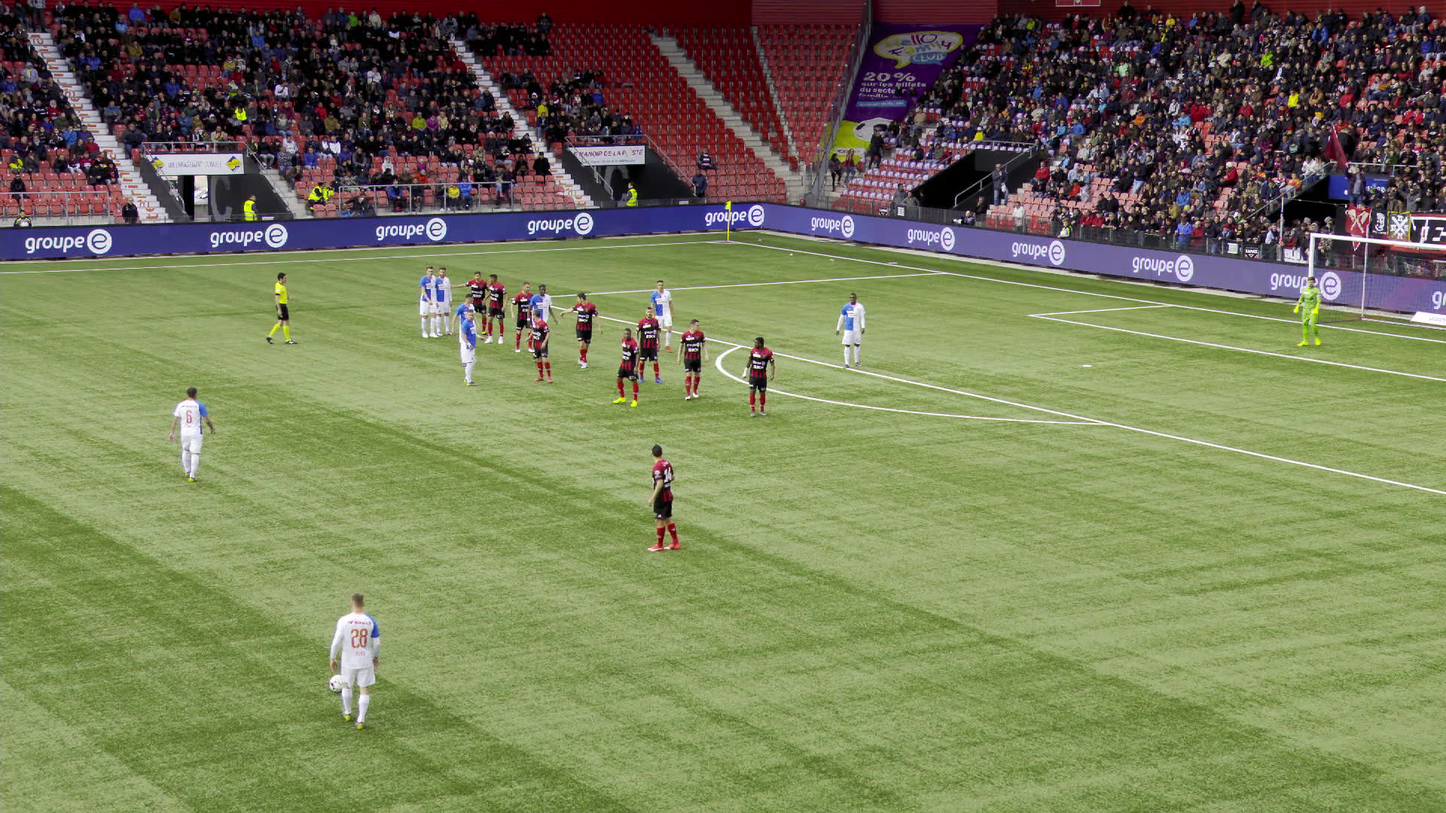ball: (329, 675, 344, 691)
player: (328, 594, 381, 730), (169, 387, 214, 483), (644, 444, 679, 551), (557, 292, 599, 368), (742, 336, 774, 417), (448, 271, 488, 335), (676, 318, 706, 400), (526, 285, 558, 361), (635, 306, 664, 383), (1292, 276, 1323, 347), (612, 327, 639, 407), (838, 292, 866, 367), (510, 281, 538, 354), (648, 281, 675, 351), (482, 273, 508, 344), (529, 311, 554, 383), (432, 267, 454, 335), (458, 309, 477, 387), (456, 294, 477, 364), (417, 266, 435, 340)
referee: (267, 272, 297, 344)
